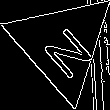N_NW: (30, 12, 93, 77)
